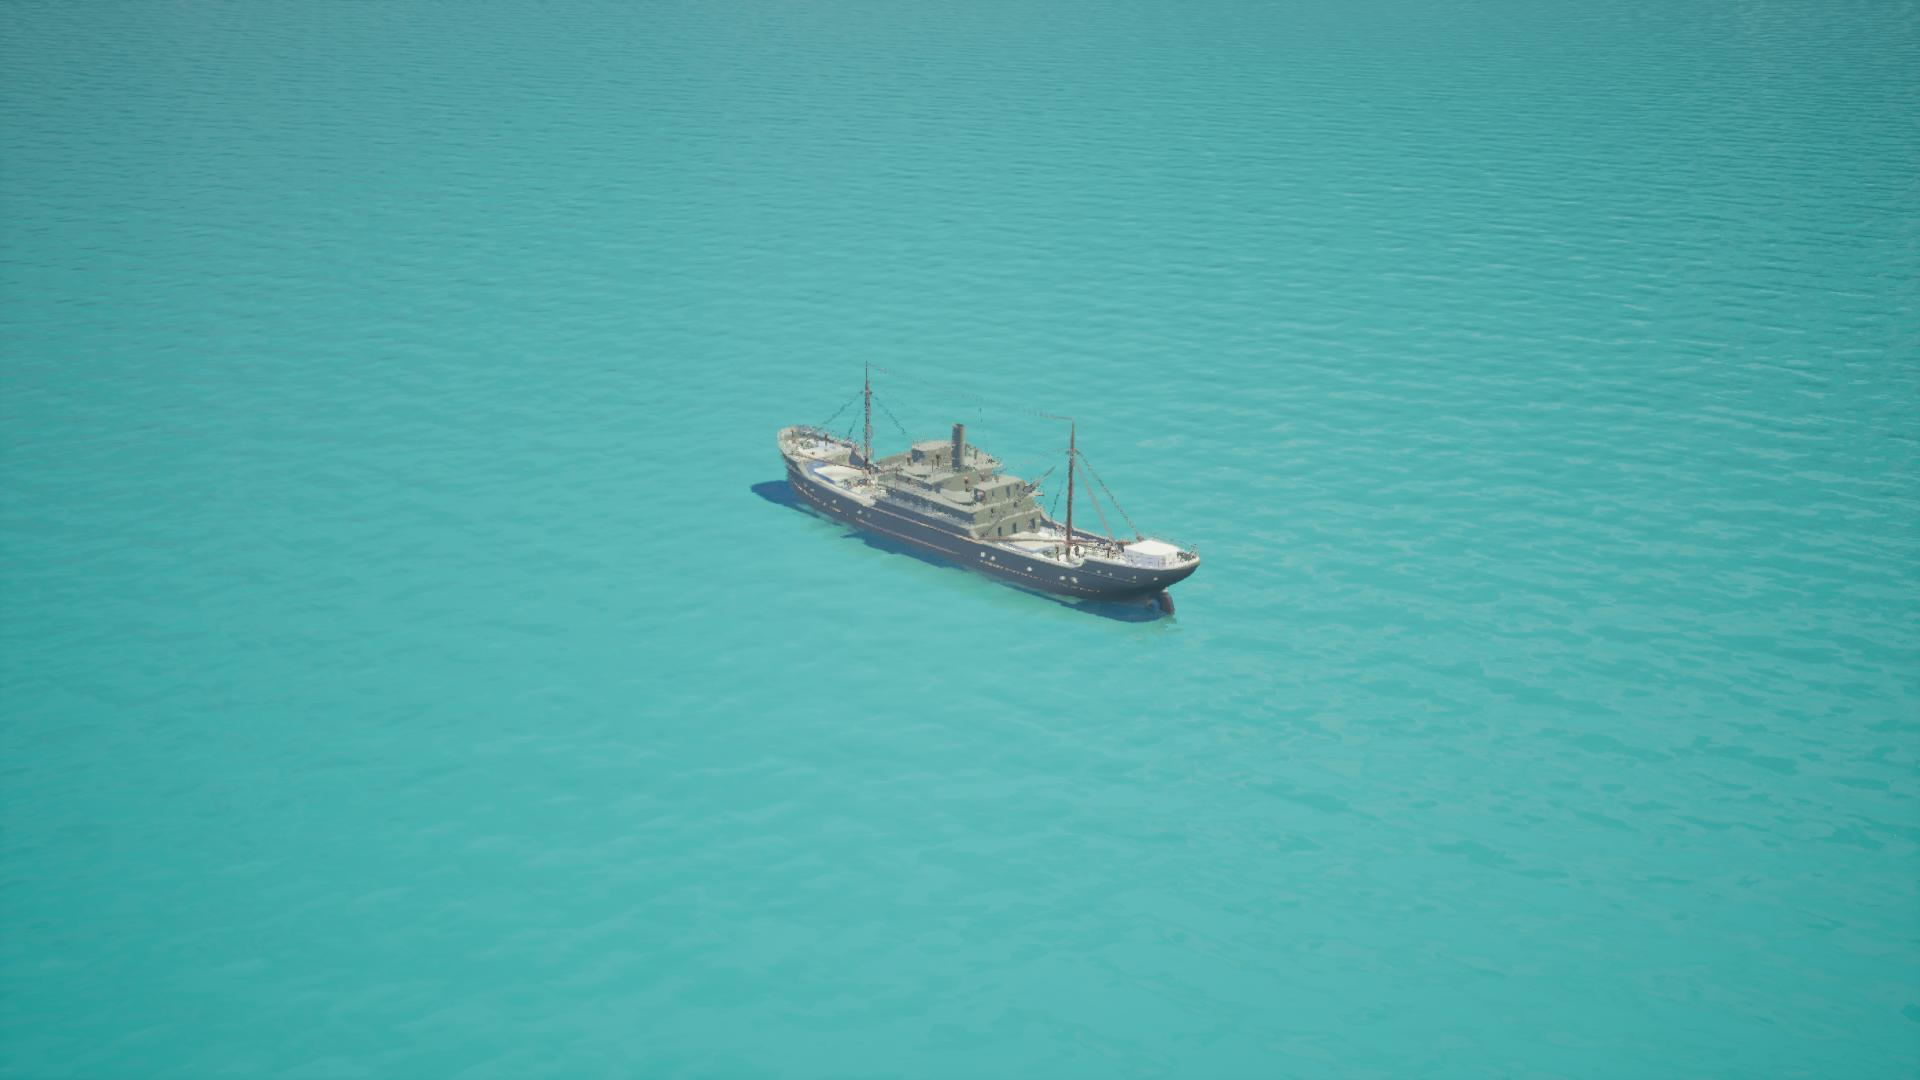Fishing Boat: (762, 384, 1198, 621)
